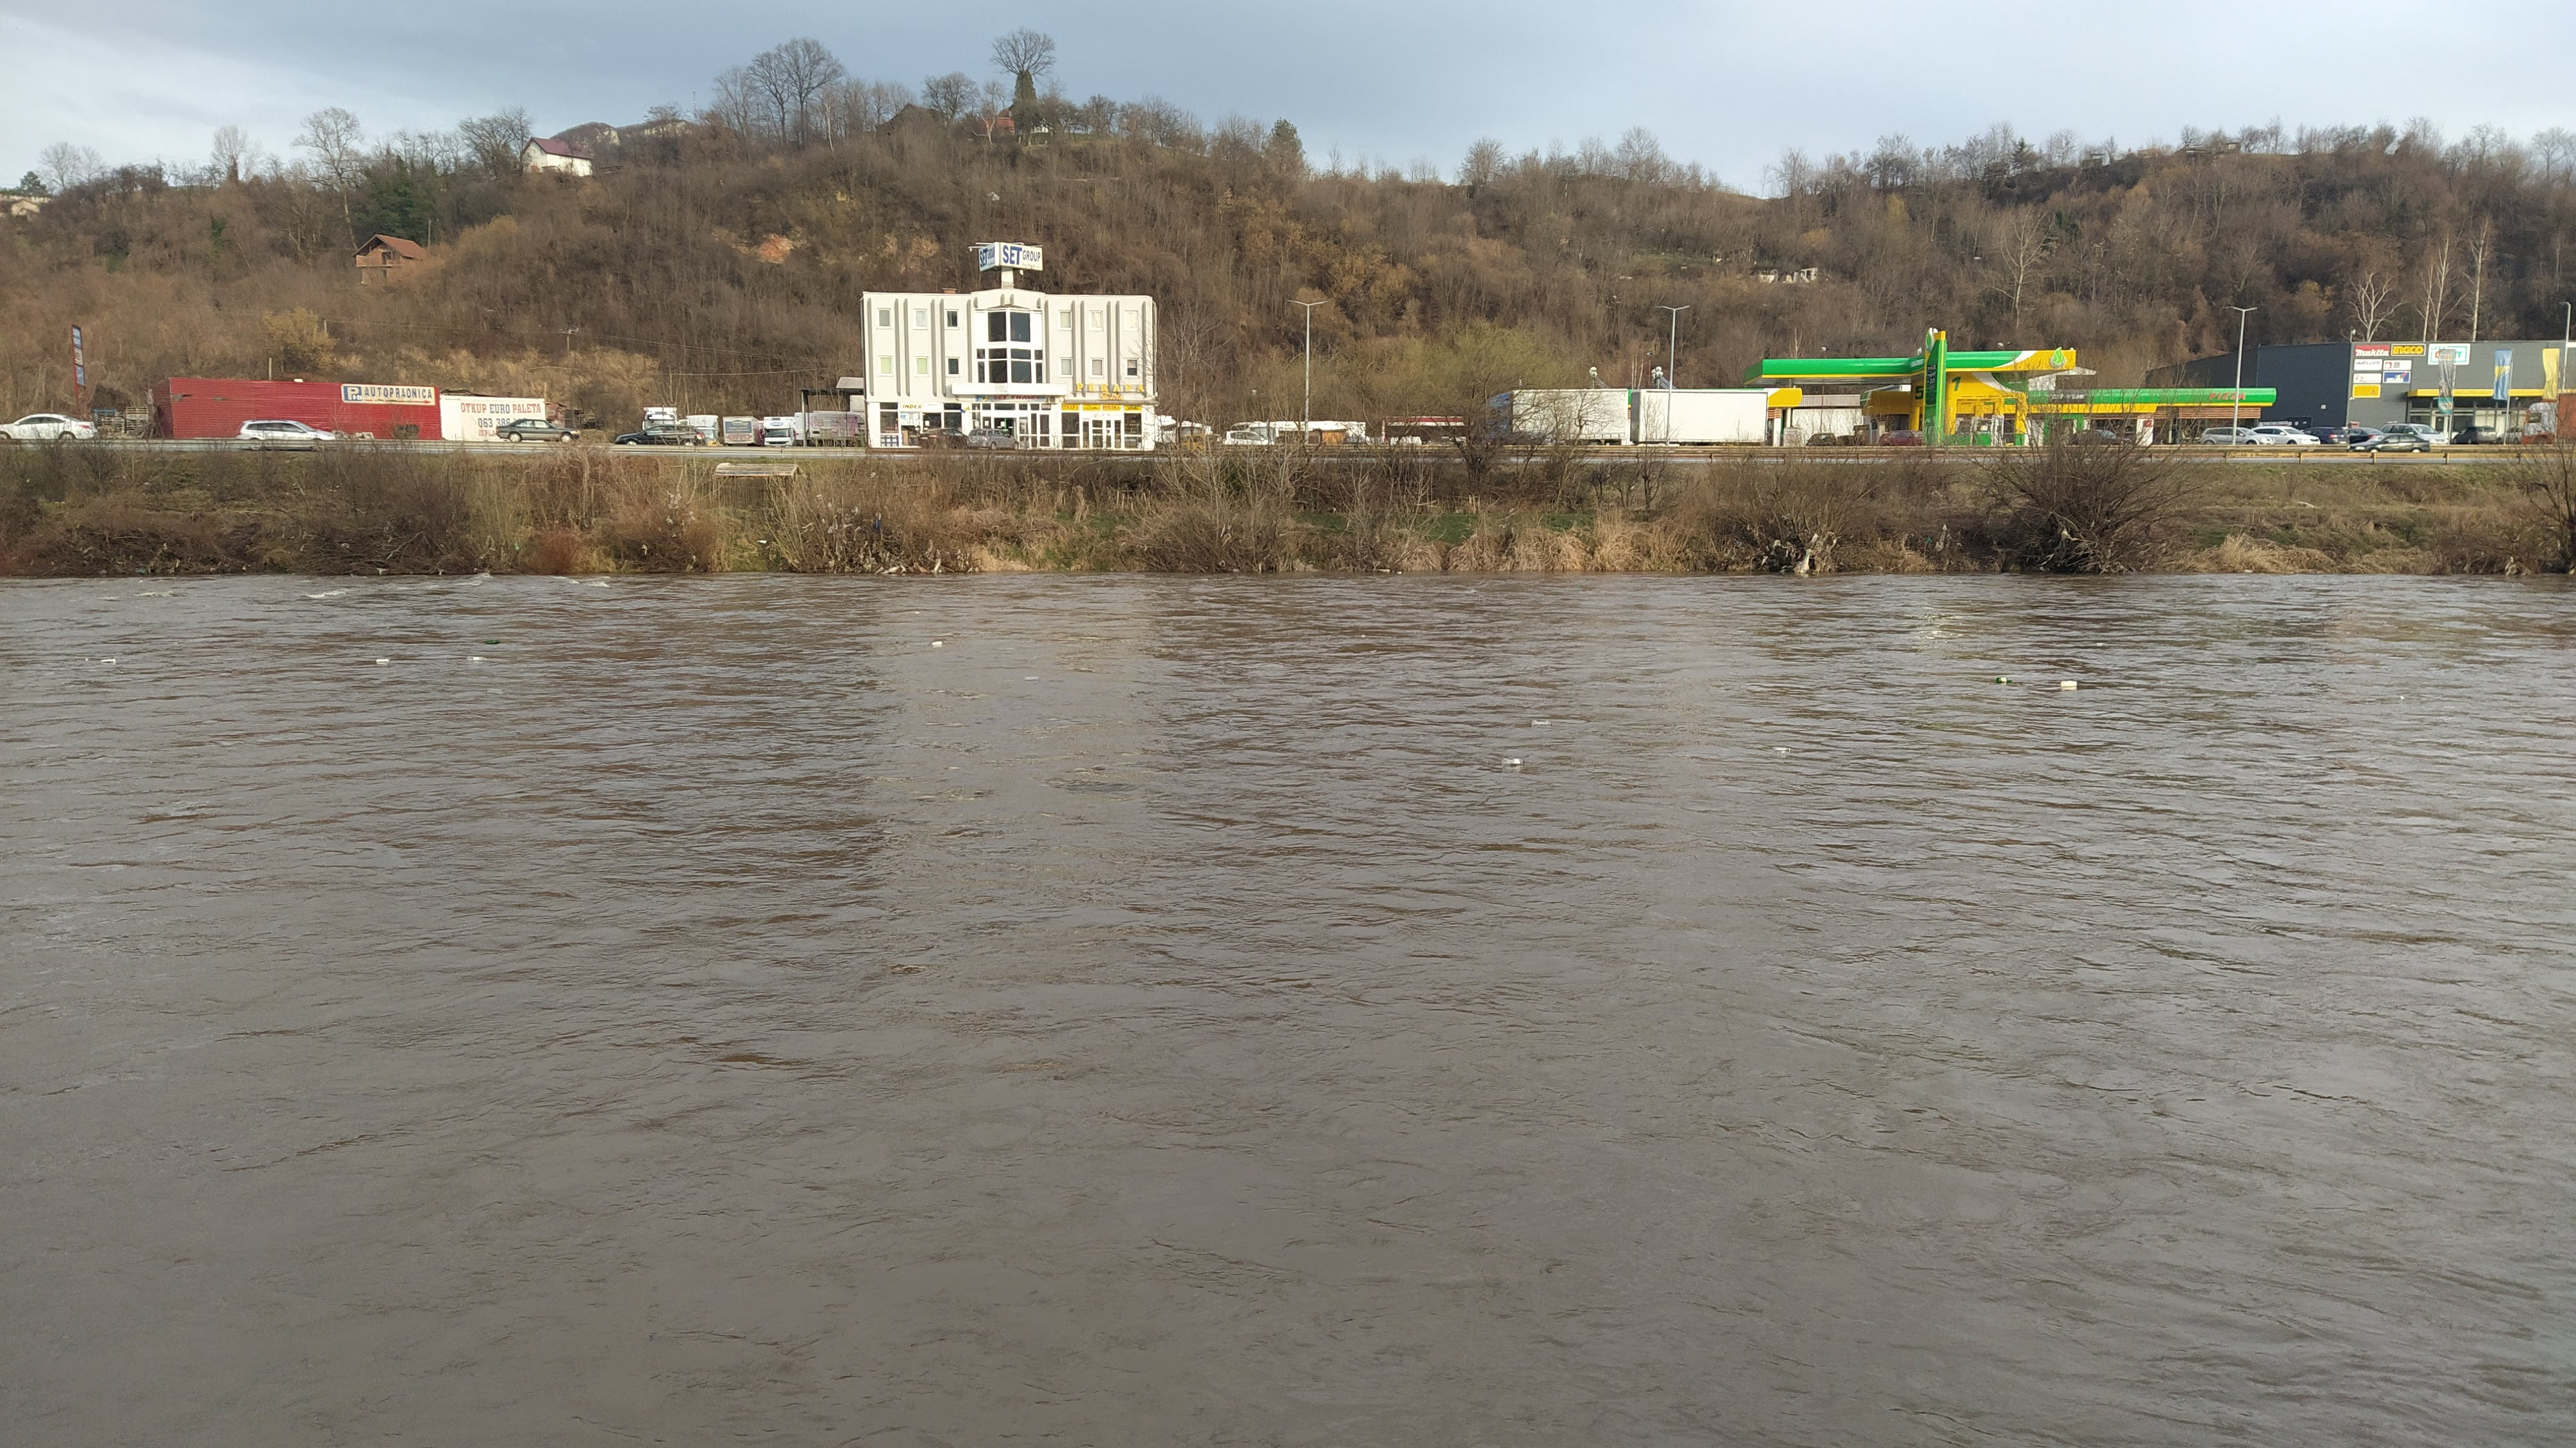Plastic Bottle: (1502, 758, 1525, 765), (2059, 680, 2077, 689), (1530, 719, 1552, 726), (1996, 676, 2013, 683), (481, 639, 501, 644), (1773, 745, 1790, 751), (467, 655, 483, 660), (488, 689, 502, 694), (932, 641, 943, 646), (101, 659, 115, 662), (1024, 676, 1039, 680), (377, 659, 389, 662), (2097, 643, 2104, 646)
